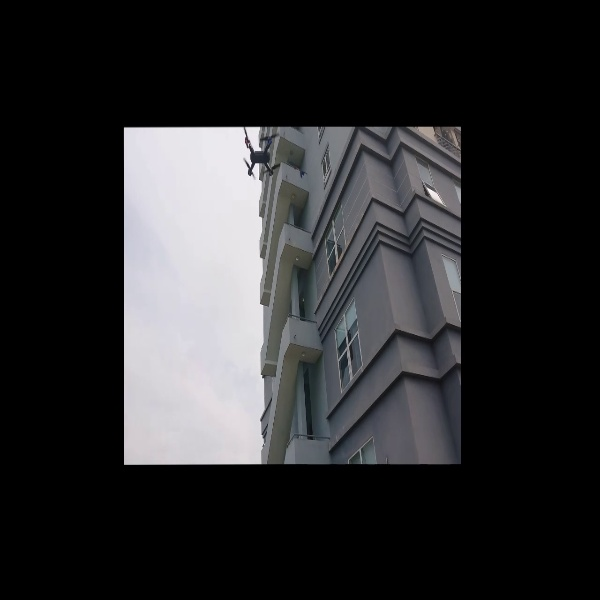drone: (238, 124, 284, 184)
